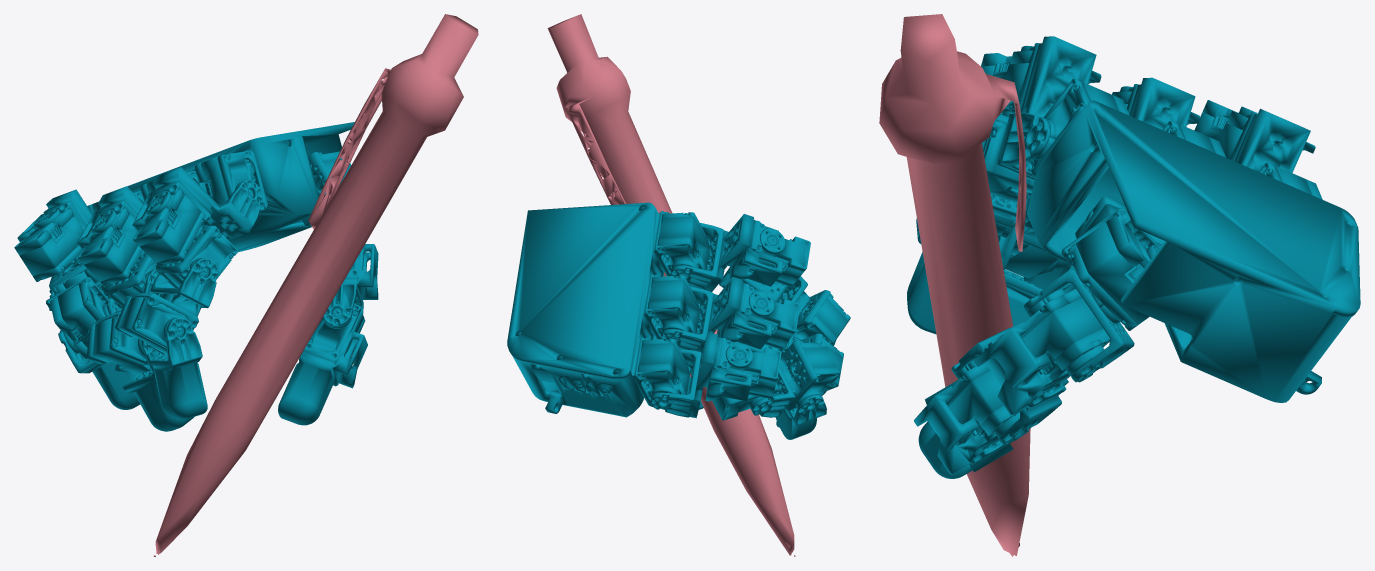
The picture shows the model from 3 angles, left to right: view 1: azimuth 30°, elevation 25°; view 2: azimuth 150°, elevation 25°; view 3: azimuth 270°, elevation 25°; orthographic projection. The views are drawn at different scales.
Parts seen in each view (by area): view 1: world; view 2: world; view 3: world.
Part boxes in pixels (<box>): world: <box>14,14,478,556</box>; world: <box>507,14,850,556</box>; world: <box>879,14,1360,556</box>.
Bounding box in the file's own units: 0.2344 × 0.3 × 0.1782.
